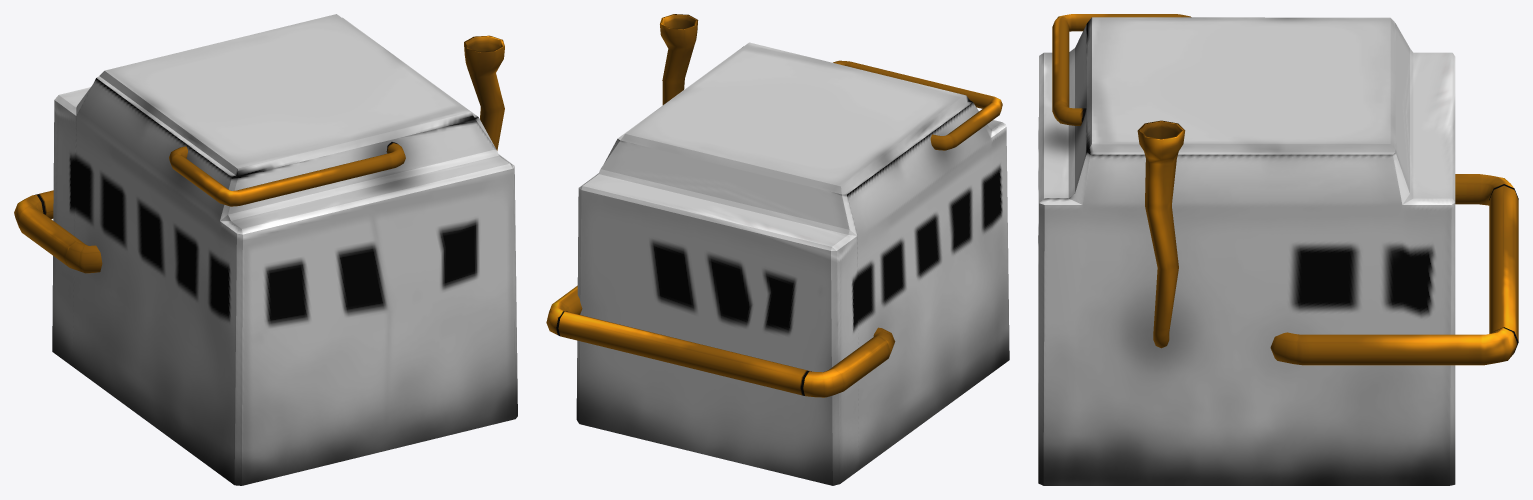
The model's file is UrbanBase.fbx.
The picture shows the model from 3 angles, left to right: view 1: azimuth 30°, elevation 25°; view 2: azimuth 150°, elevation 25°; view 3: azimuth 270°, elevation 25°; orthographic projection. The views are drawn at different scales.
Visible parts, largest first — view 1: Full_HP2; view 2: Full_HP2; view 3: Full_HP2.
Part boxes in pixels (<box>): Full_HP2: <box>14,14,517,485</box>; Full_HP2: <box>546,14,1009,485</box>; Full_HP2: <box>1038,14,1518,485</box>.
Bounding box in the file's own units: 174 × 161 × 191.
